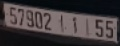0: (35, 11, 42, 28)
2: (43, 11, 52, 30)
5: (95, 18, 104, 38), (105, 19, 113, 40), (9, 7, 17, 25)
7: (17, 9, 24, 25)
9: (26, 9, 34, 27)
a: (71, 16, 78, 35)
